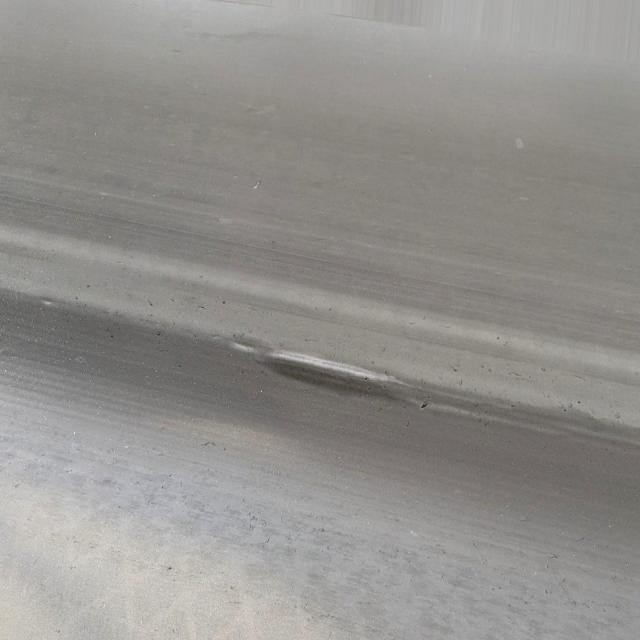Impact Damage: (258, 345, 428, 406)
